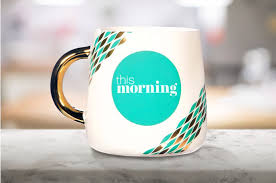mug: (42, 21, 221, 170)
